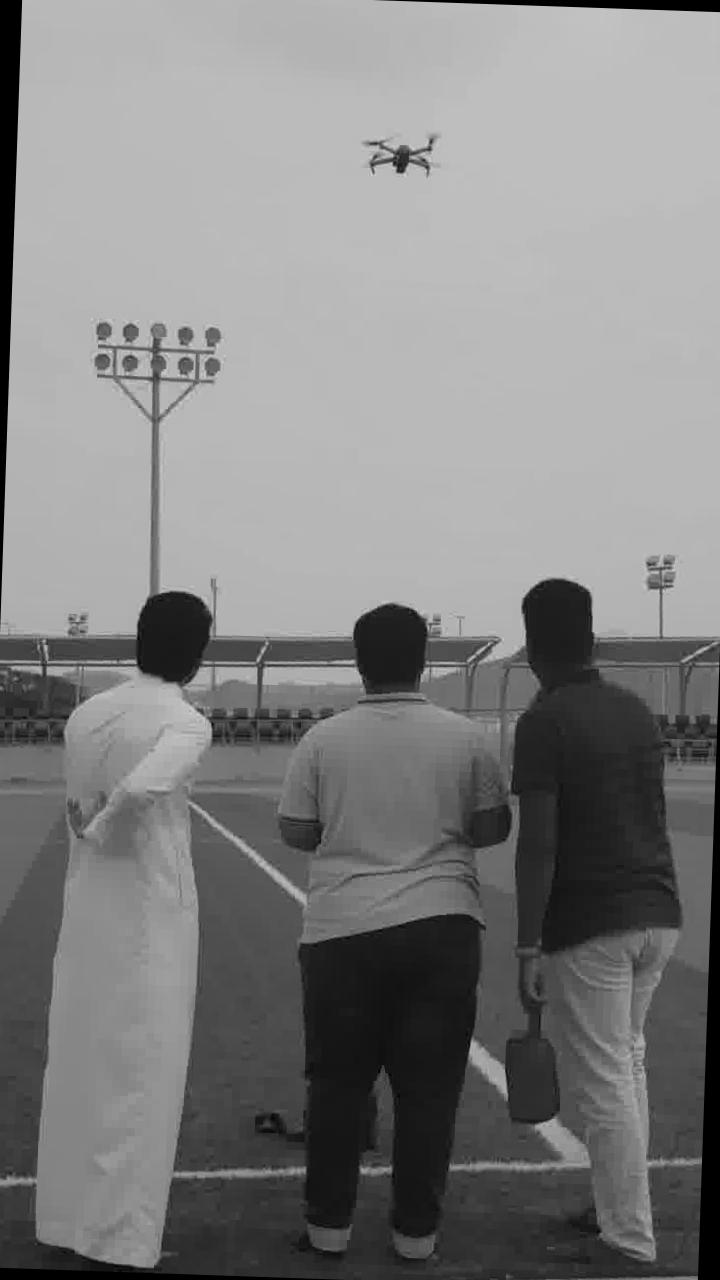drone: (342, 115, 459, 189)
